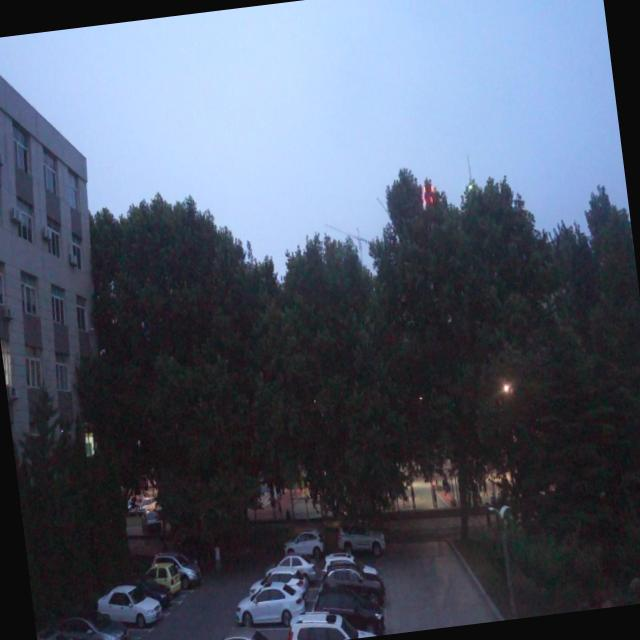drone: (418, 178, 437, 206)
